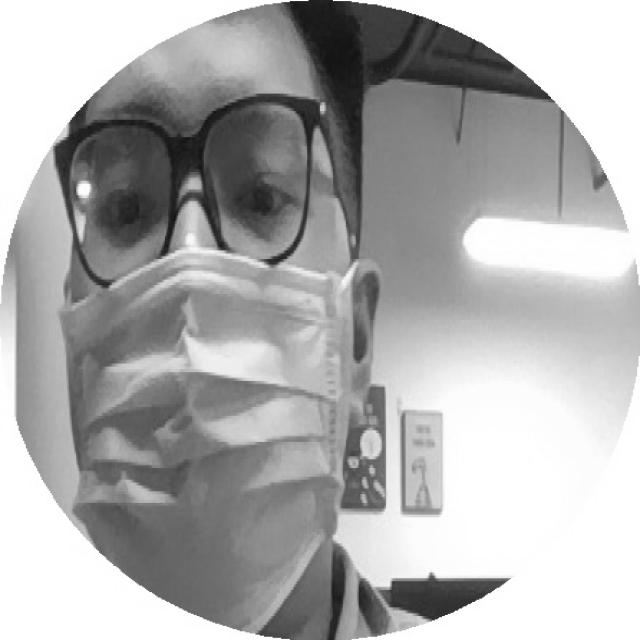fake: (56, 250, 360, 622)
real: (45, 113, 326, 250)
